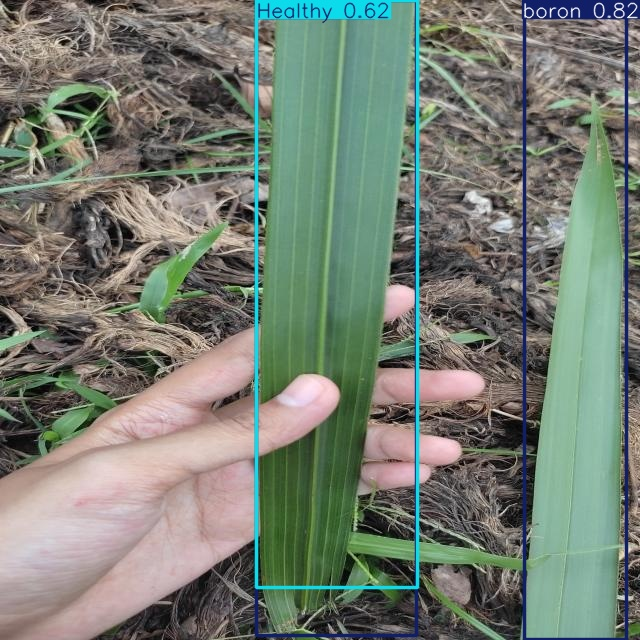Healthy: (256, 0, 417, 588)
nitrogen: (256, 0, 417, 635), (525, 0, 626, 640)
